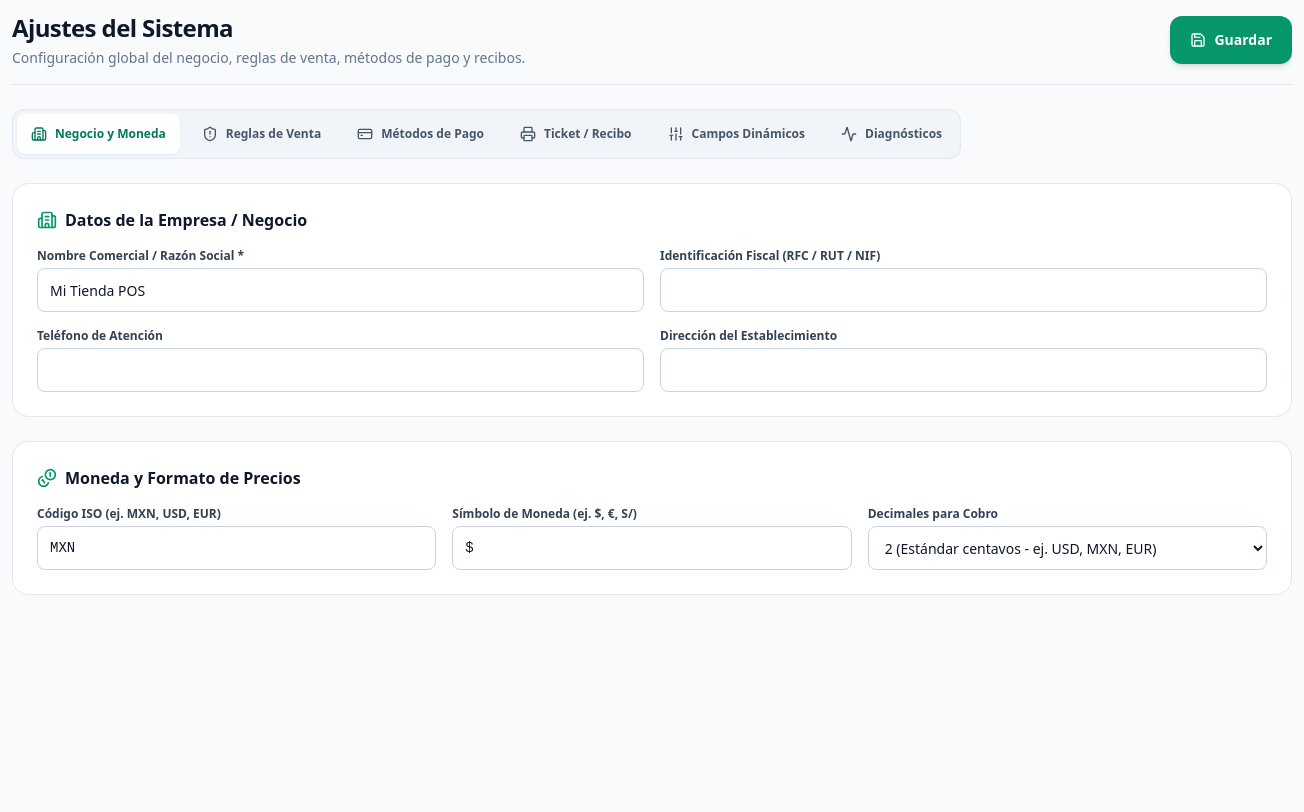
Test: Settings Management (S3-T7) › switches to sales rules tab and modifies rules
# Switch to Reglas de Venta tab
Click the button "Reglas de Venta" at coordinates (262, 134), box 188,114 -> 335,154
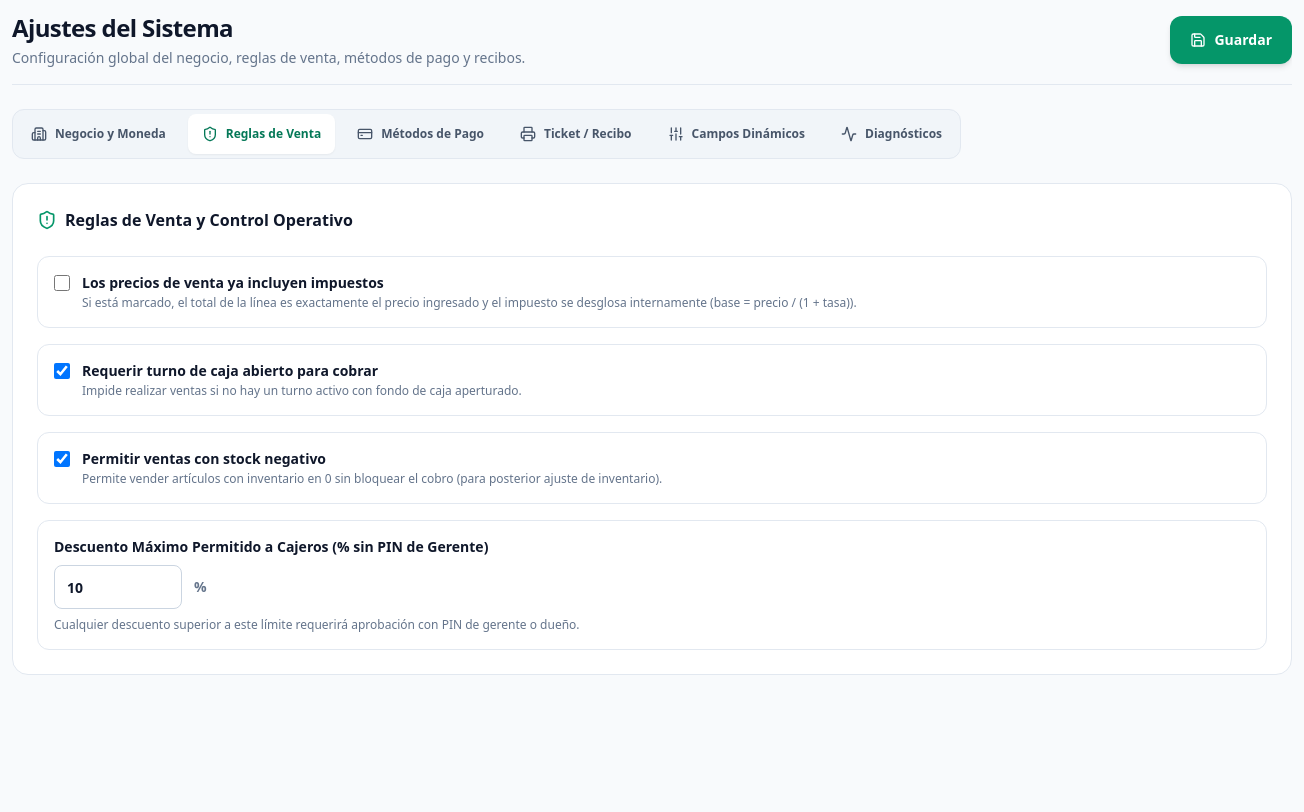
Check: the text "Descuento Máximo Permitido a Cajeros (% sin PIN de Gerente)" is shown, box 54,537 -> 488,556
Replace the text in the number field labelled "Descuento Máximo Permitido a Cajeros (% sin PIN de Gerente)" with "20" at coordinates (118, 587), box 54,565 -> 182,609
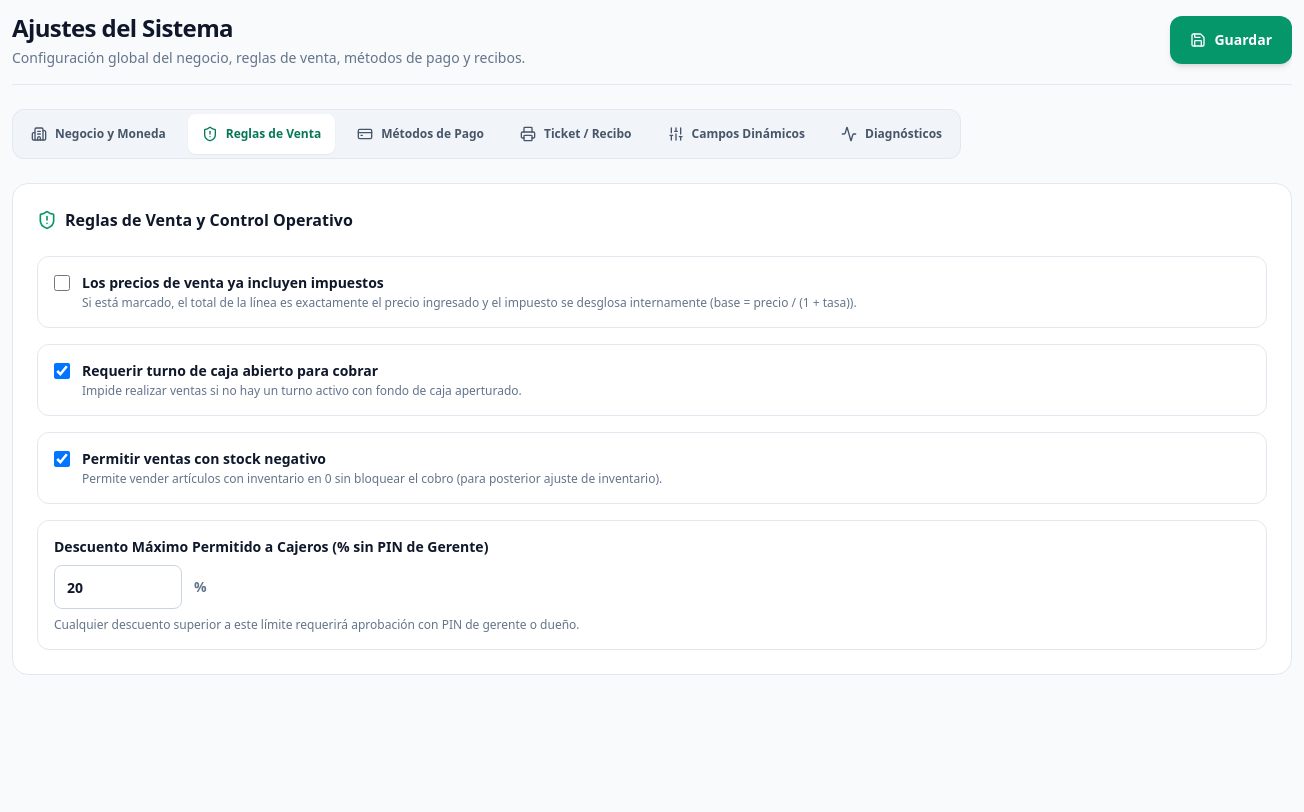
Click the button "Guardar" at coordinates (1231, 40), box 1170,16 -> 1292,64
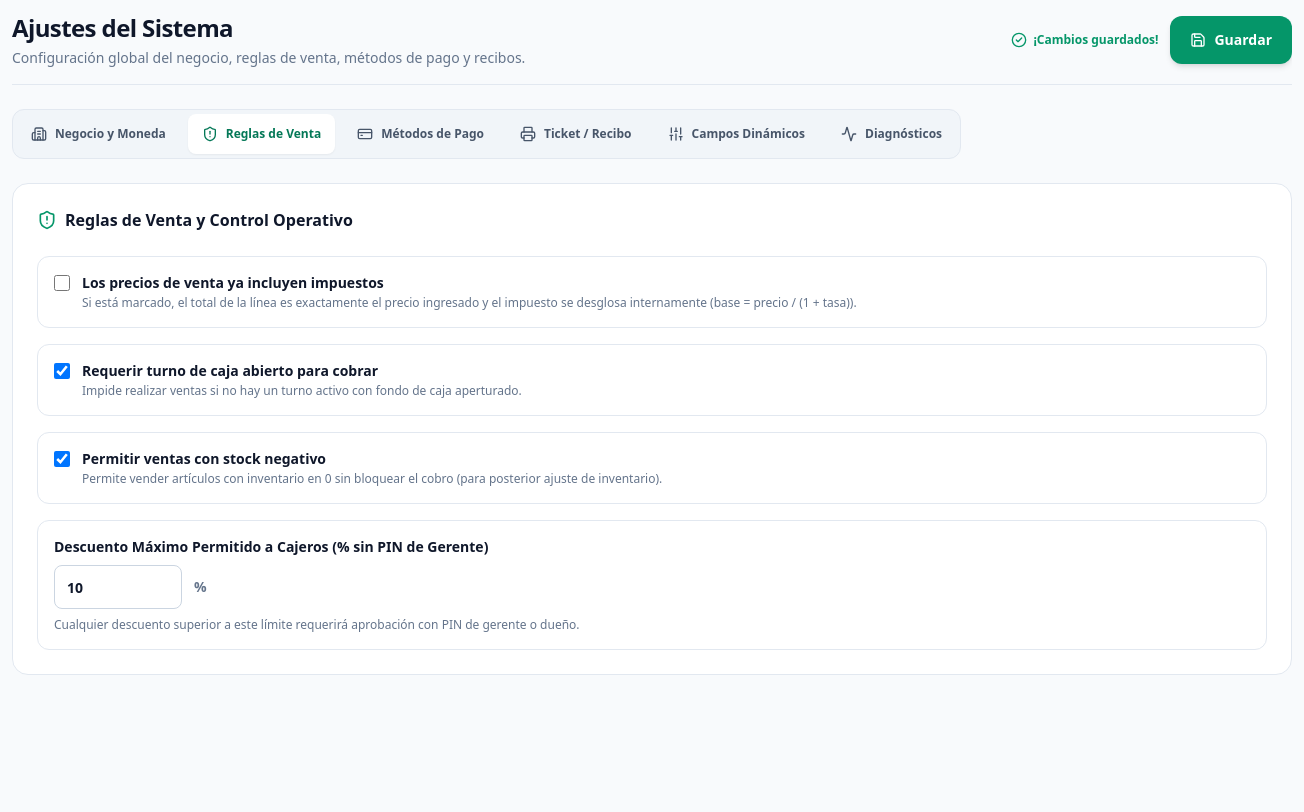
Check: the text "¡Cambios guardados!" is shown, box 1011,32 -> 1158,48
